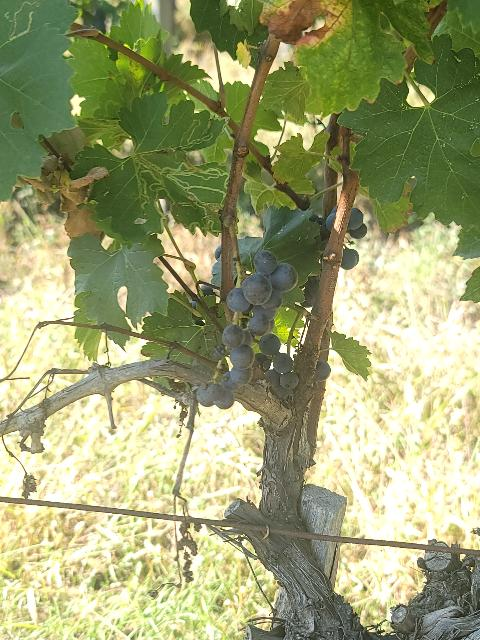grapes: (196, 250, 299, 409), (226, 250, 299, 336)
